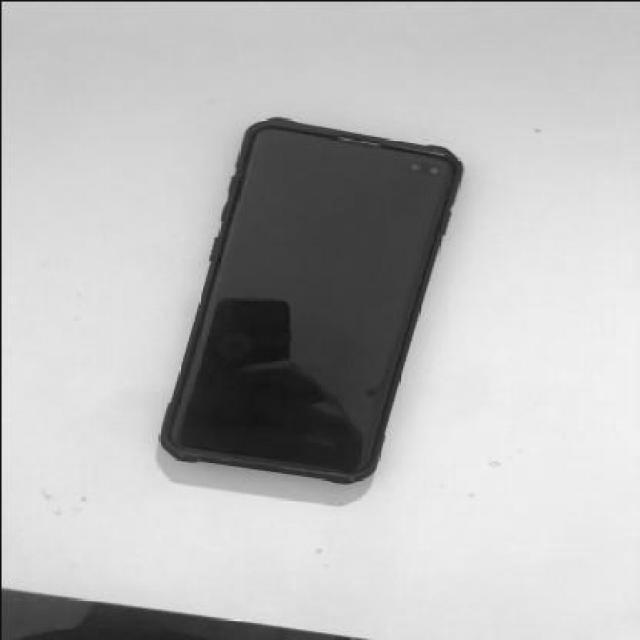fake: (162, 110, 462, 484)
